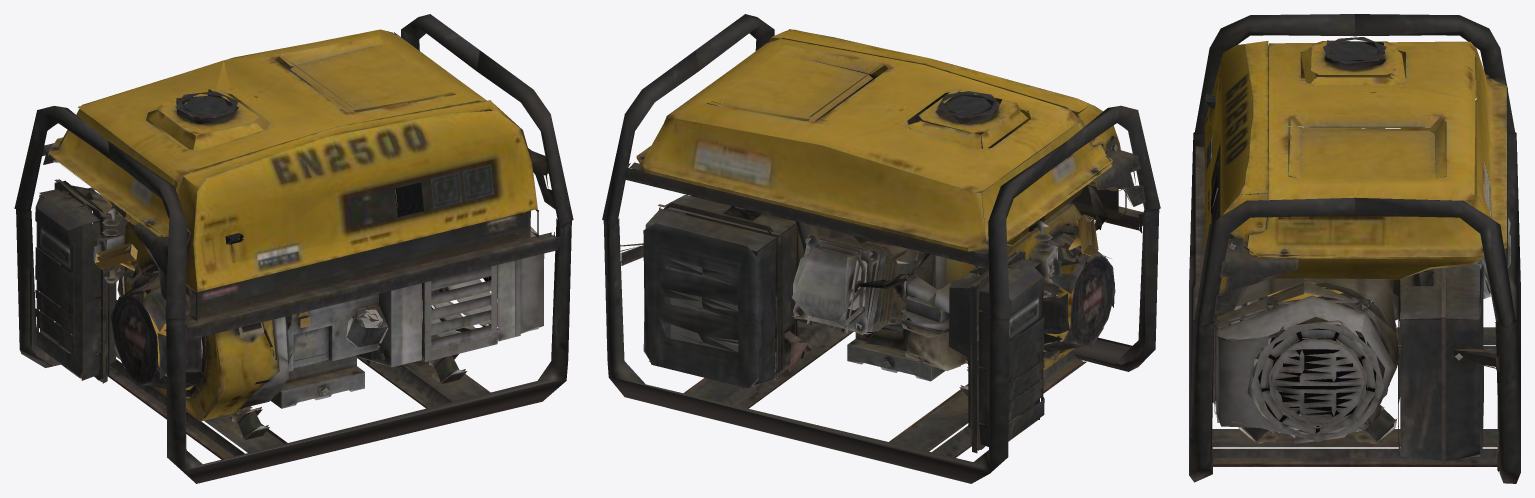
Rendered from generator.gltf.
3 views of the same model, side by side, from view 1: azimuth 30°, elevation 25°; view 2: azimuth 150°, elevation 25°; view 3: azimuth 270°, elevation 25° (orthographic).
Parts seen in each view (by area): view 1: portable_generator; view 2: portable_generator; view 3: portable_generator.
Part boxes in pixels (<box>): portable_generator: <box>14,14,573,483</box>; portable_generator: <box>602,14,1160,483</box>; portable_generator: <box>1189,14,1520,483</box>.
Bounding box in the file's own units: 0.8217 × 0.5768 × 0.5657.
2 materials, 2 textured.
